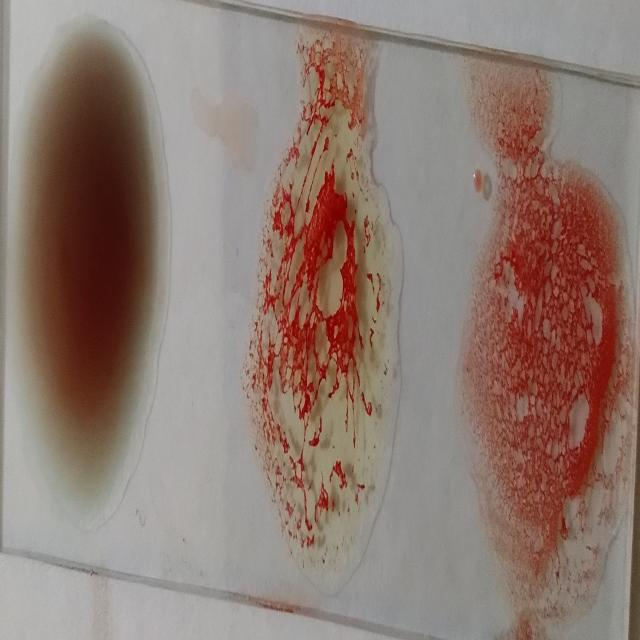B: (249, 89, 393, 591)
D: (464, 187, 632, 616)
